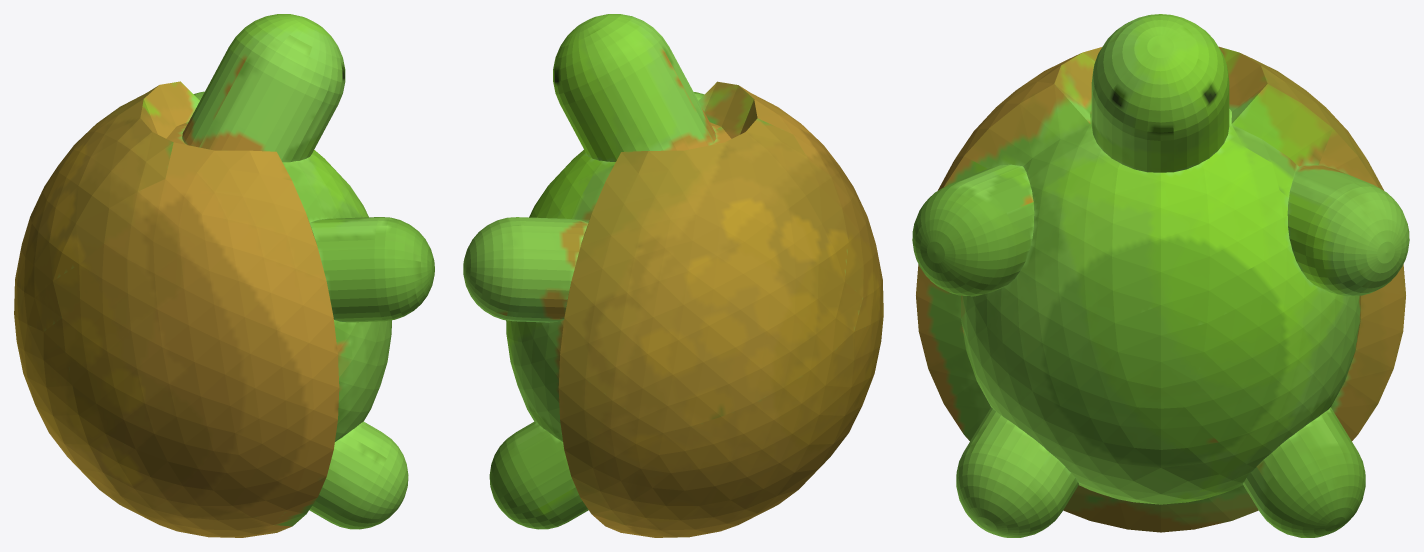
The model's file is Taliturtle_model.fbx.
The picture shows the model from 3 angles, left to right: view 1: azimuth 30°, elevation 25°; view 2: azimuth 150°, elevation 25°; view 3: azimuth 270°, elevation 25°; orthographic projection. The views are drawn at different scales.
Visible parts, largest first — view 1: Icosphere; view 2: Icosphere; view 3: Icosphere.
Boxes of the visible parts, x1,y1,x2,y2 form: Icosphere: (14,14,434,537); Icosphere: (463,14,883,537); Icosphere: (912,14,1409,537).
Size of the model in its own units: 435 by 630 by 524.
1 material, 1 textured.
